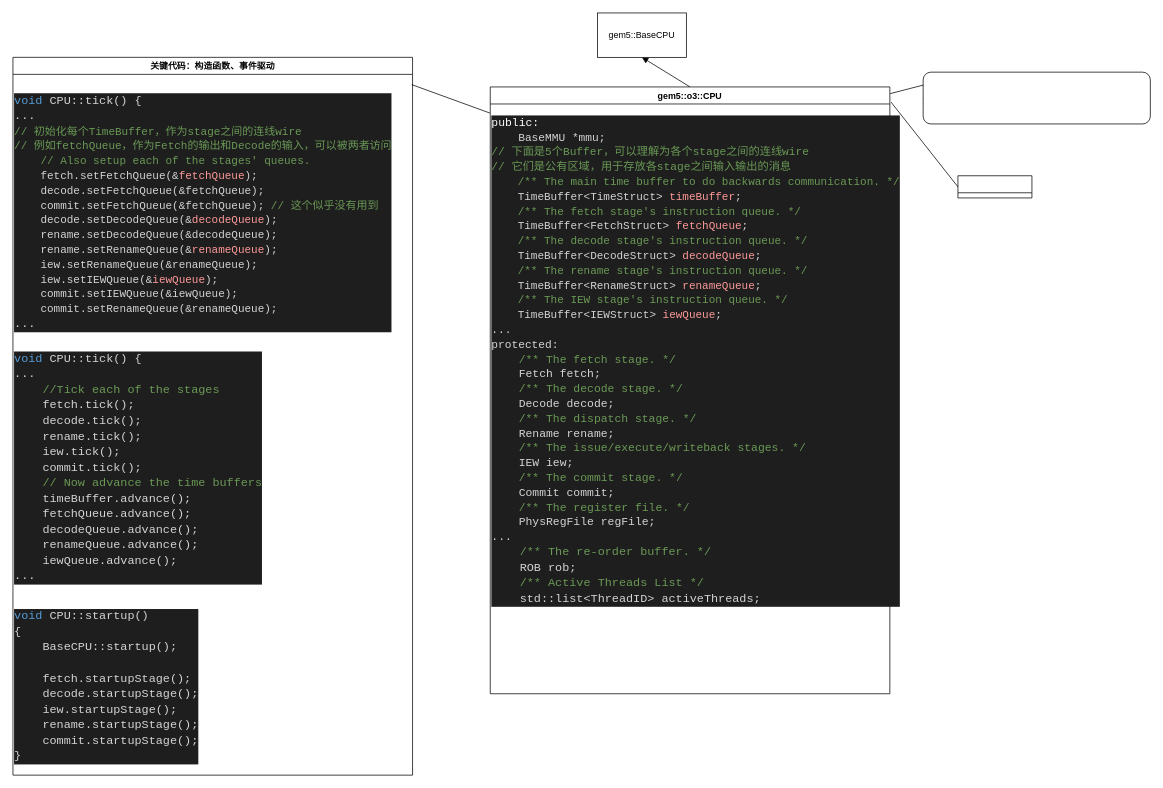
Image size: 1163x788. Some labels were removed from this diagram. The centre of each missing label's shape, as x and y in pixels:
"实例化" belongs at [994,186].
"构造函数 CPU( const BaseO3CPUParams & params);" belongs at [1036,97].
